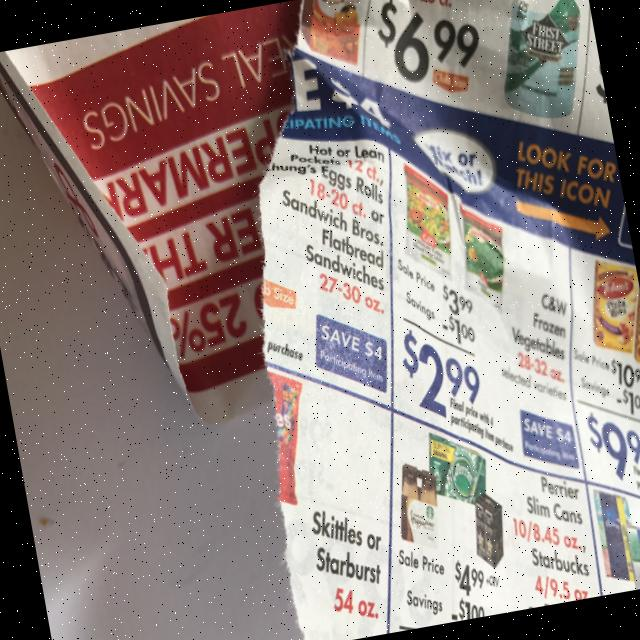paper: (188, 0, 640, 640)
